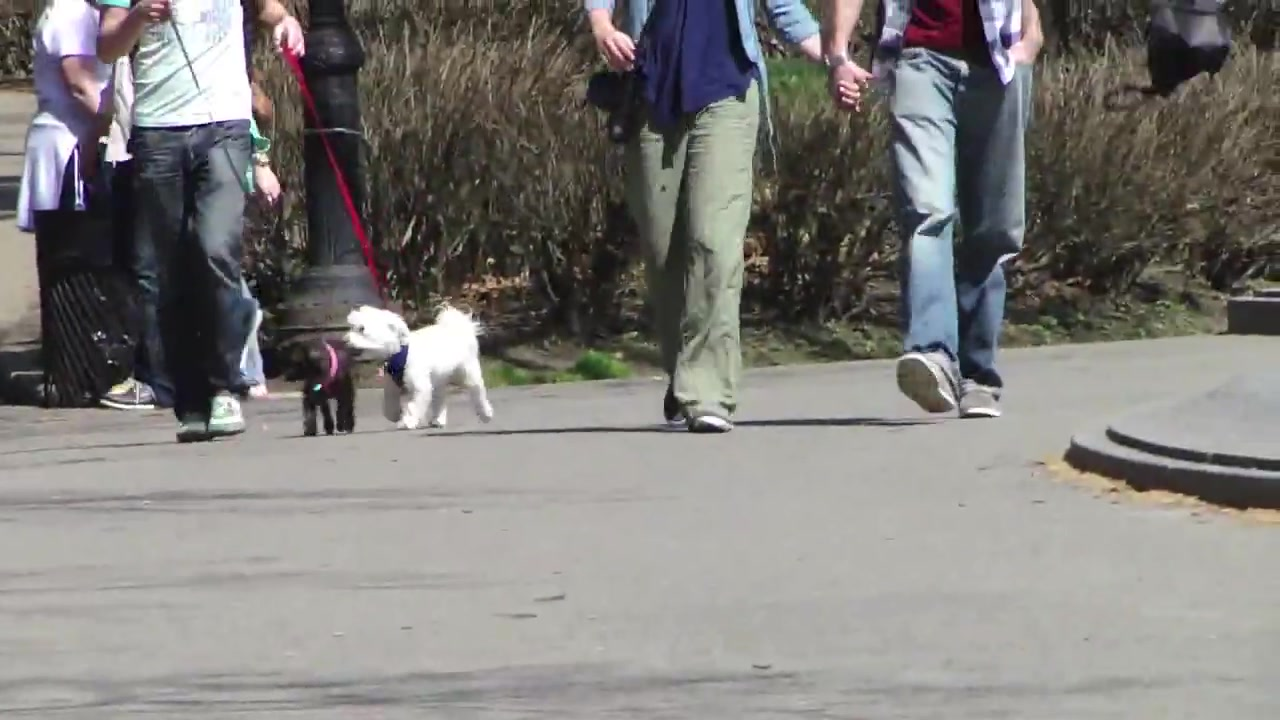dog: (343, 297, 502, 435)
